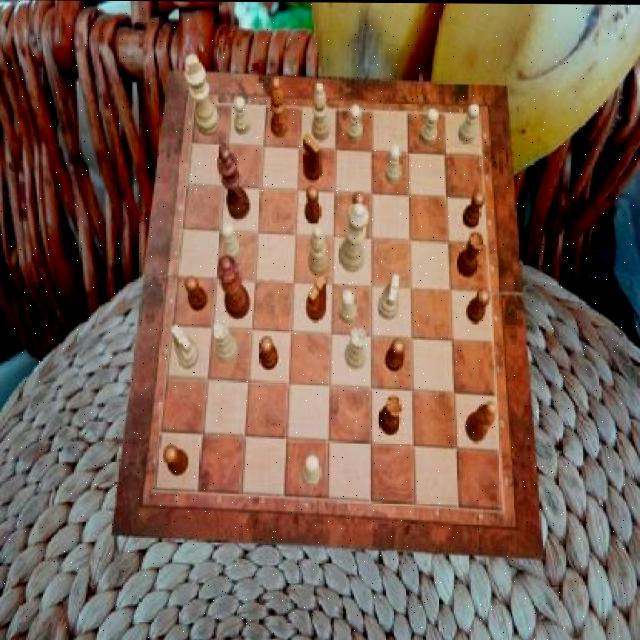bishop: (465, 401, 497, 441), (270, 79, 288, 139)
black-bishop: (218, 144, 250, 220)
black-king: (302, 134, 322, 182), (306, 276, 326, 322)
black-knight: (466, 287, 490, 322), (462, 189, 484, 227), (183, 276, 206, 311), (163, 444, 188, 475), (384, 339, 404, 372), (349, 191, 366, 229), (303, 185, 320, 223), (261, 335, 278, 370)
black-pawn: (218, 255, 250, 319)
black-queen: (458, 231, 484, 277), (378, 395, 402, 435)
black-rook: (308, 225, 328, 276), (312, 82, 329, 140)
white-bishop: (183, 55, 219, 137)
white-king: (171, 324, 198, 370), (378, 273, 400, 319)
white-knight: (458, 103, 478, 145), (220, 223, 240, 262), (419, 107, 438, 145), (233, 95, 251, 134), (302, 454, 322, 487), (339, 288, 357, 323), (346, 104, 363, 141), (386, 145, 402, 184)
white-pawn: (339, 202, 369, 271)
white-queen: (212, 319, 237, 362), (344, 327, 366, 368)
